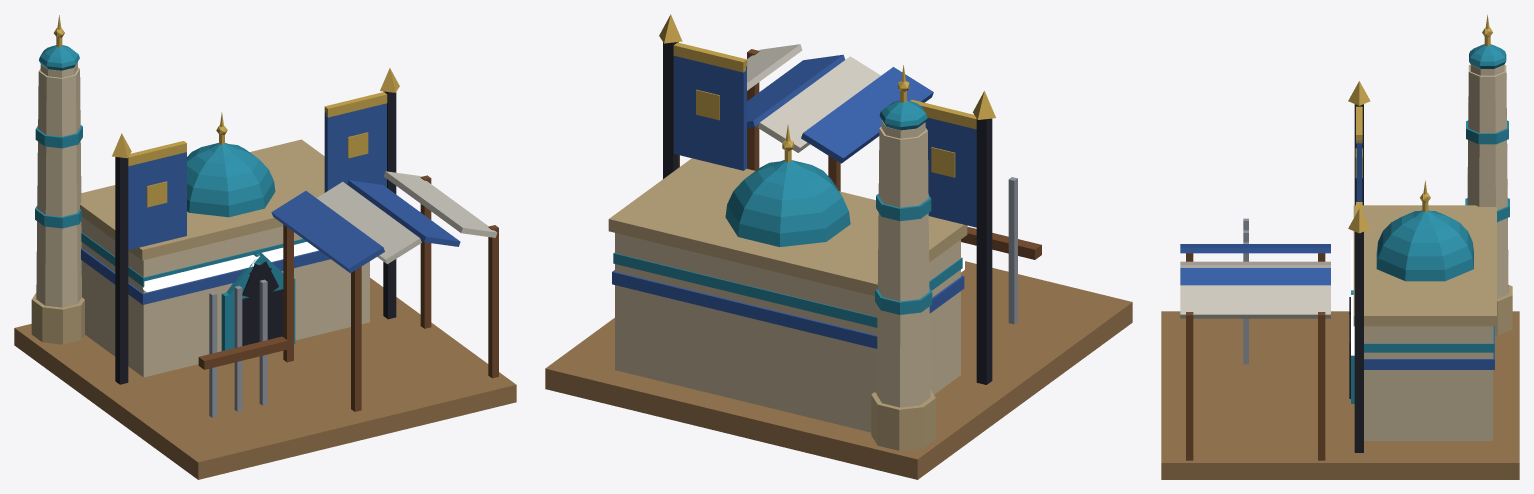
File: camp_militia_t3.glb
3 views of the same model, side by side, from view 1: azimuth 30°, elevation 25°; view 2: azimuth 150°, elevation 25°; view 3: azimuth 270°, elevation 25° (orthographic). The views are drawn at different scales.
Visible parts, largest first — view 1: body, glow; view 2: body; view 3: body.
Part boxes in pixels (x1,y1,x2,y2): body: (14, 15, 516, 479); glow: (143, 242, 318, 292); body: (545, 14, 1132, 479); body: (1161, 15, 1519, 479).
Bounding box in the file's own units: 1.9 × 1.92 × 1.9.
